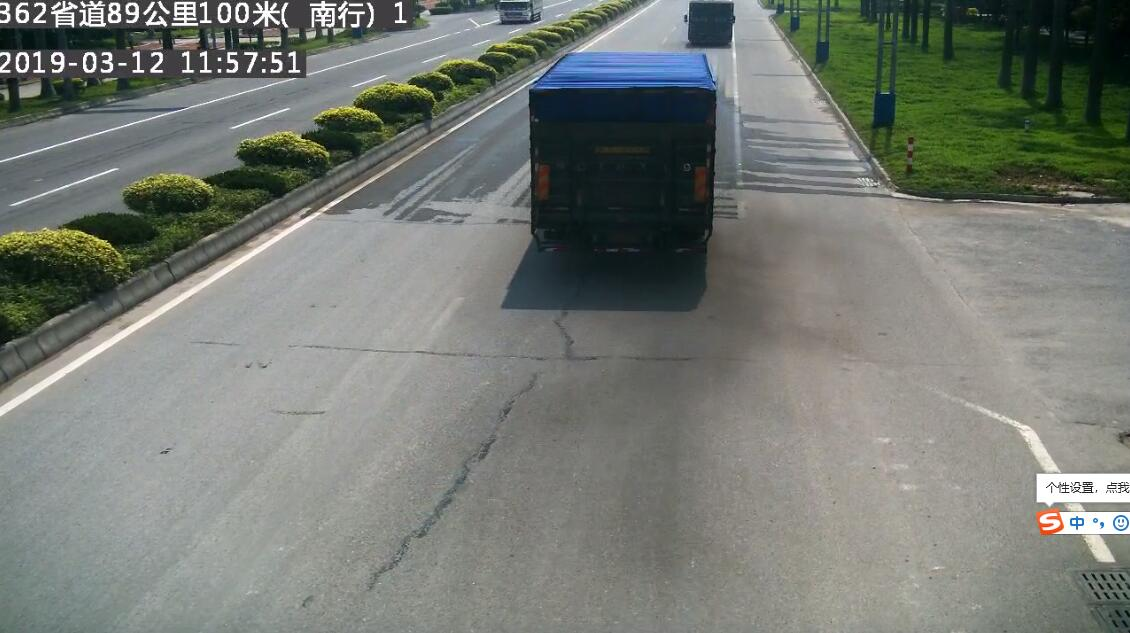yanwu: (674, 212, 777, 336)
